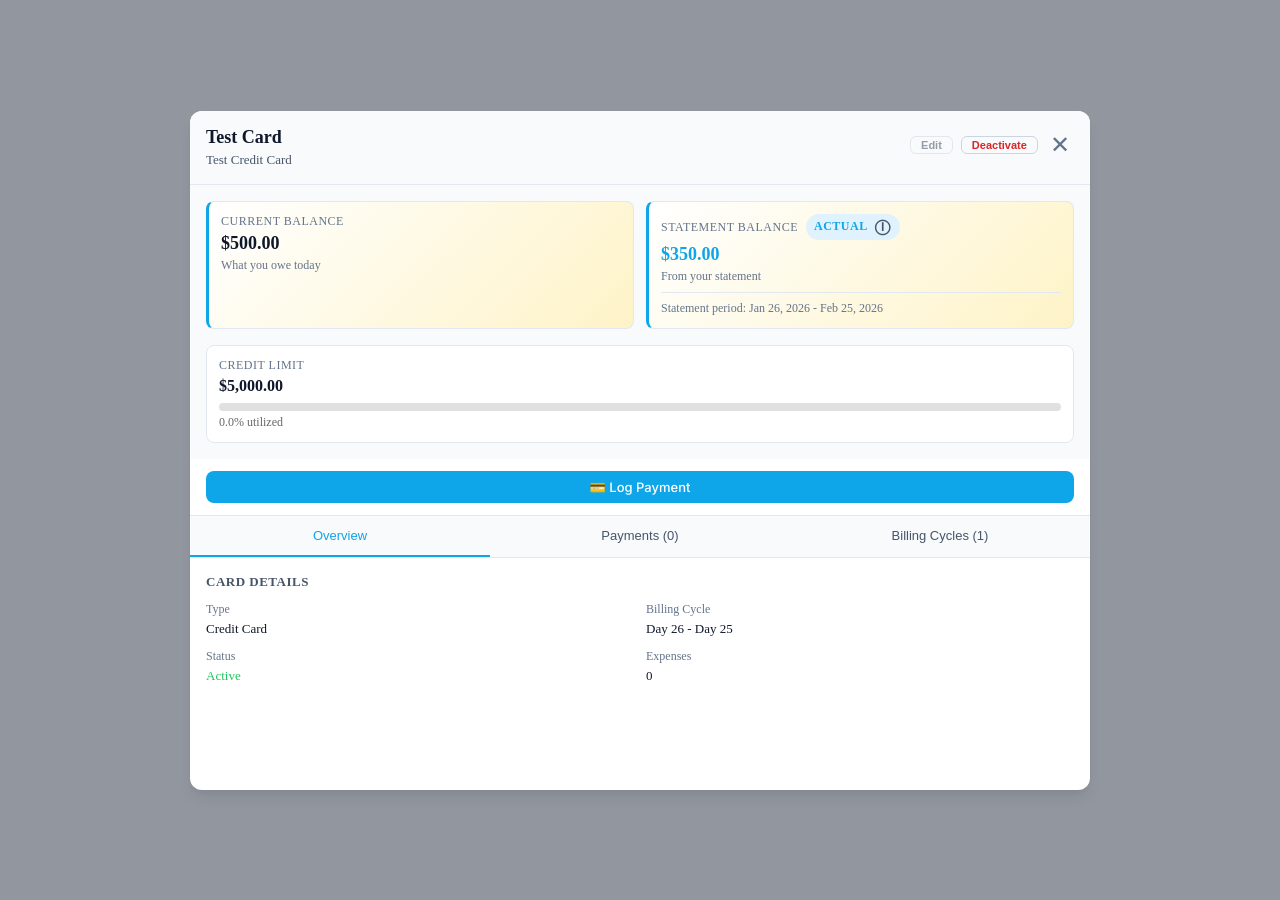
Scenario: CreditCardDetailView - Billing Cycle Integration › Billing Cycle History Tab › should display billing cycles in the Billing Cycles tab
This screenshot has width=1280, height=900.
Expected: the heading "Test Card" is shown, [206,126,292,148]
# Click on Billing Cycles tab
Click the button "Billing Cycles (1)": (940, 536) [790,516,1090,556]
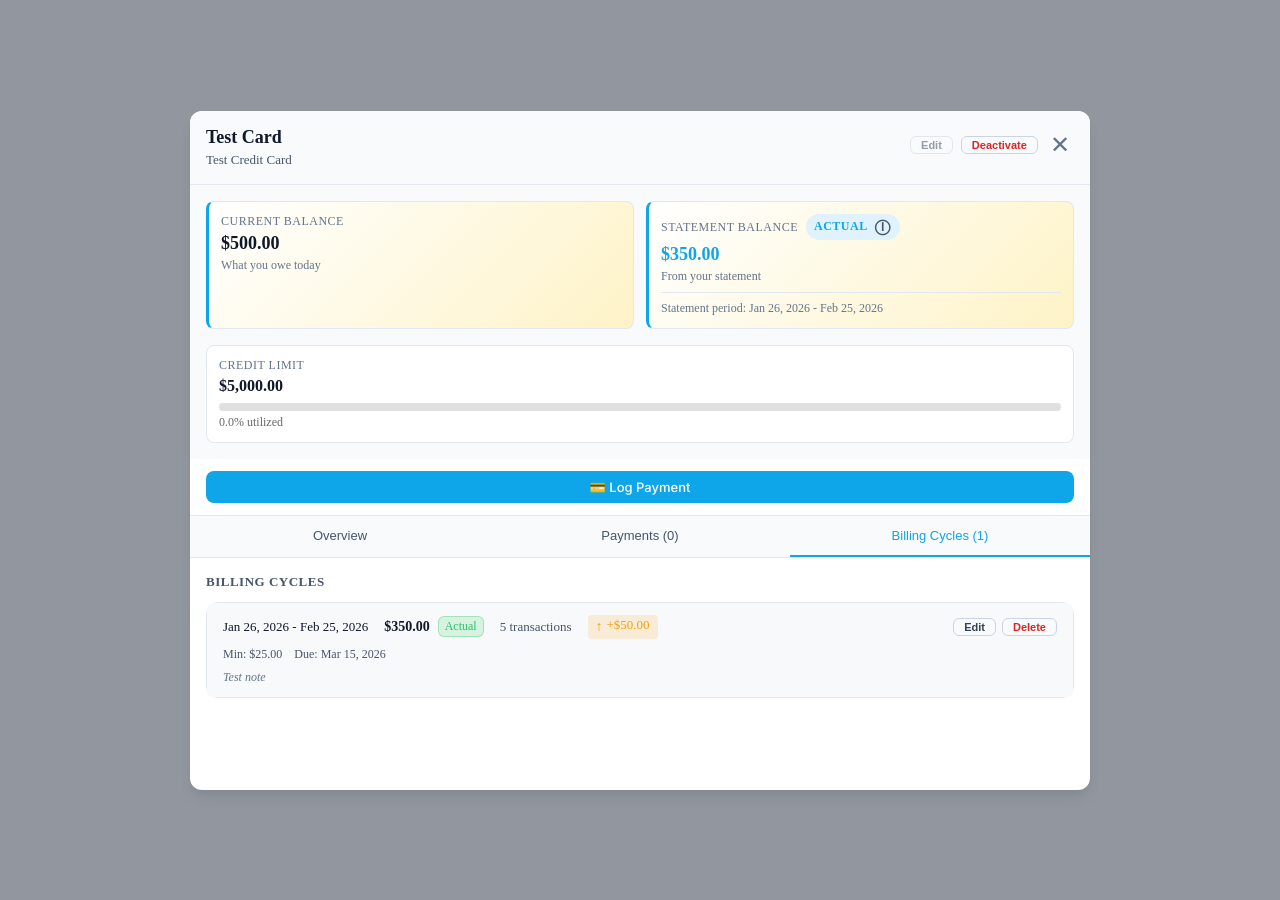
Result: the text "Jan 26, 2026 - Feb 25, 2026" is shown at [223,618,368,634]
Result: the text with class "unified-cycle-dates" shows "Jan 26, 2026" at [223,618,289,634]
